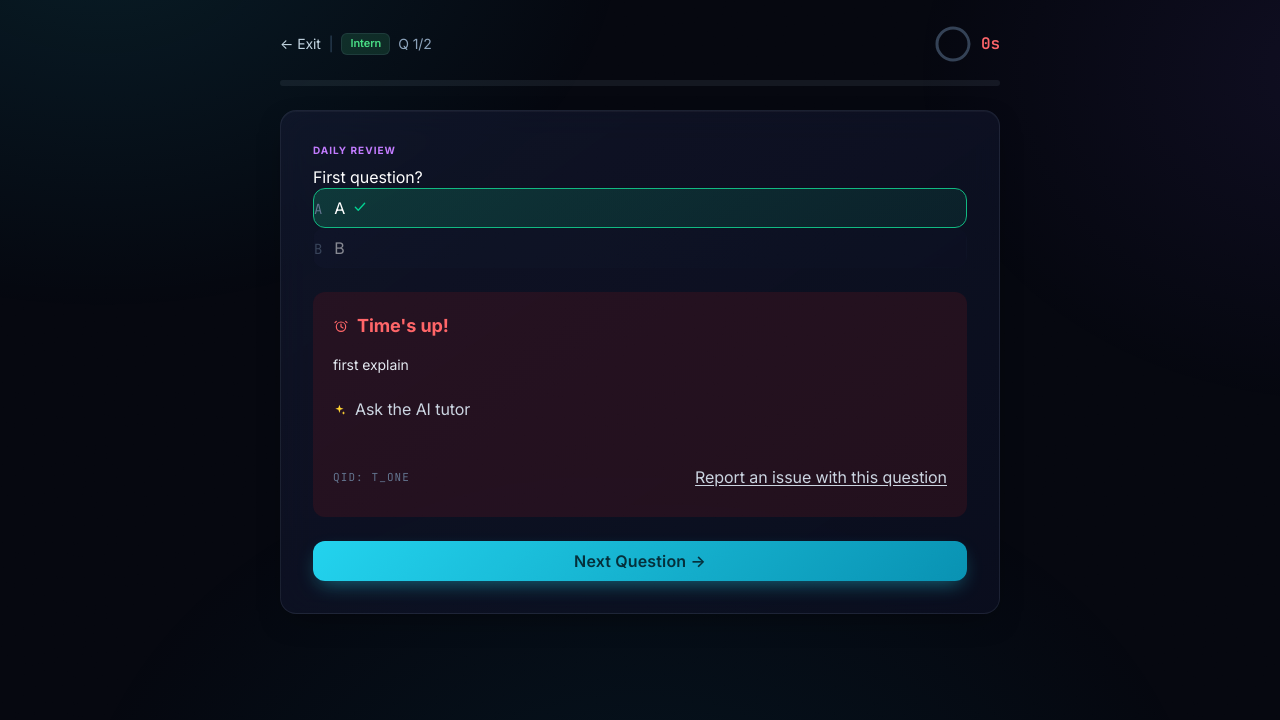
CasePlay timer › gives the next question a full clock after the previous one timed out
Expected: the heading "First question?" is shown, [313,167,423,187]
Expected: the text "Time's up!" is shown, [333,312,449,340]
Click the button "Next Question →" at (640, 561), box [313,541,967,581]
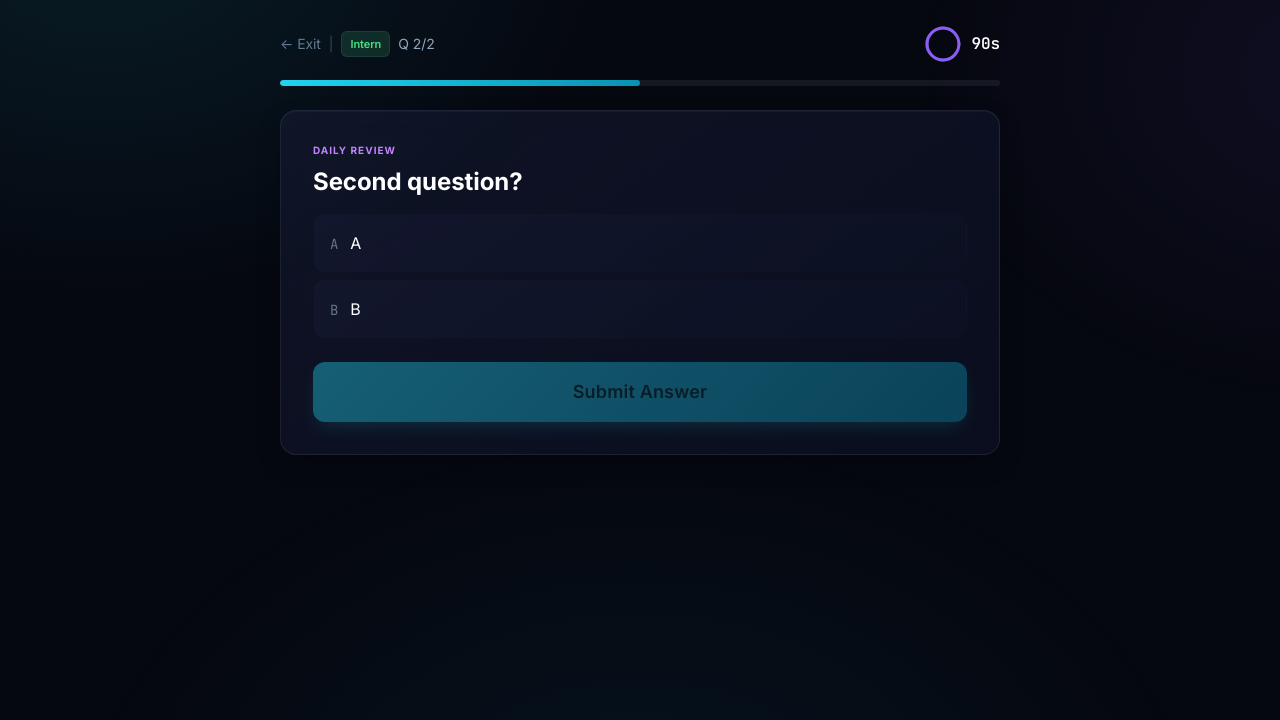
Expected: the heading "Second question?" is shown, [313,167,522,196]
Expected: the text "Time.s up" is gone
Expected: the button "Submit Answer" is shown, [313,362,967,422]
